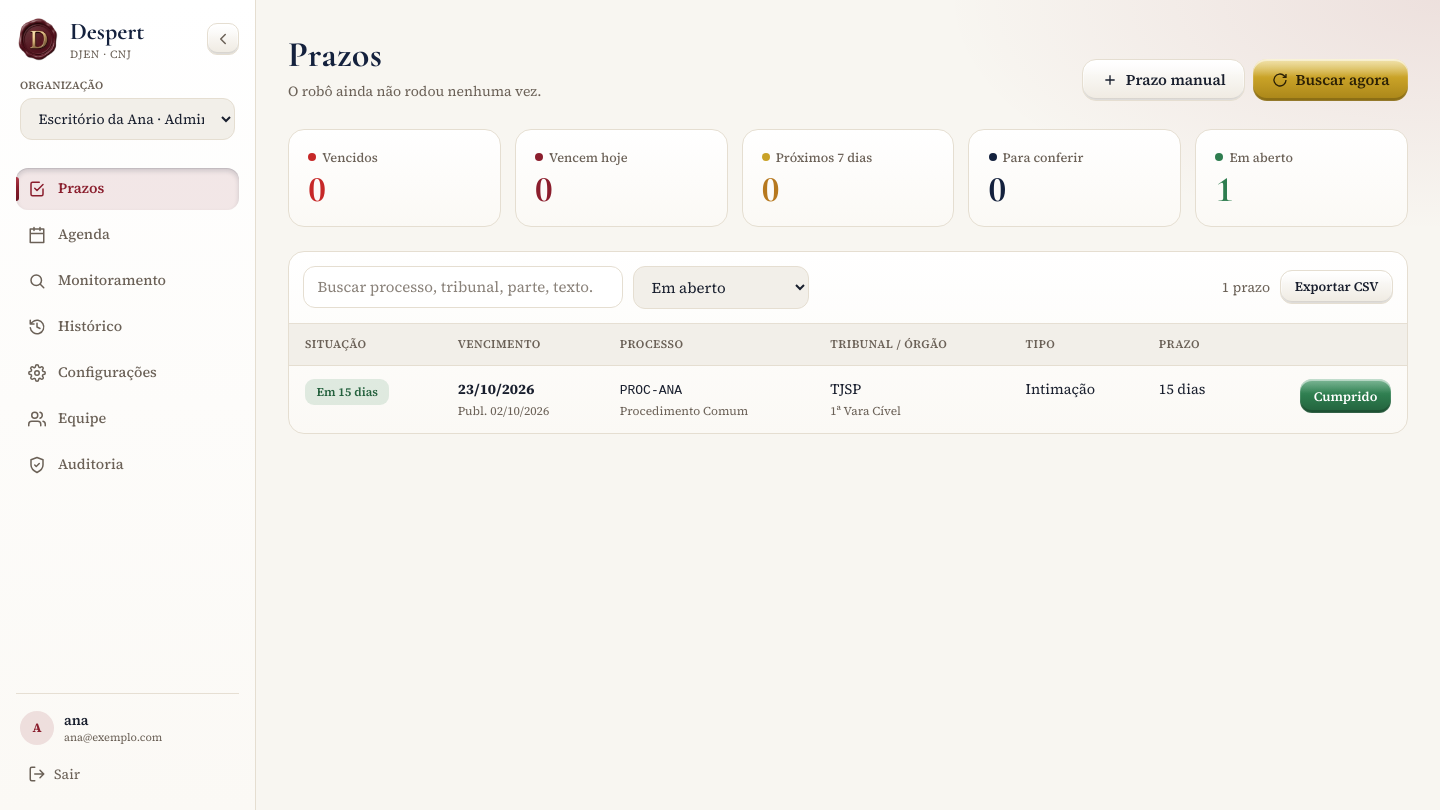
equipe e organizações › quem está em duas organizações troca entre elas e vê só os dados da ativa
Check: the text "PROC-ANA" is shown, box [620, 383, 682, 398]
Check: the text "PROC-ACME" is not shown
Select "Jurídico ACME · Leitura" in the dropdown labelled "Organização": (128, 119) [20, 98, 235, 140]
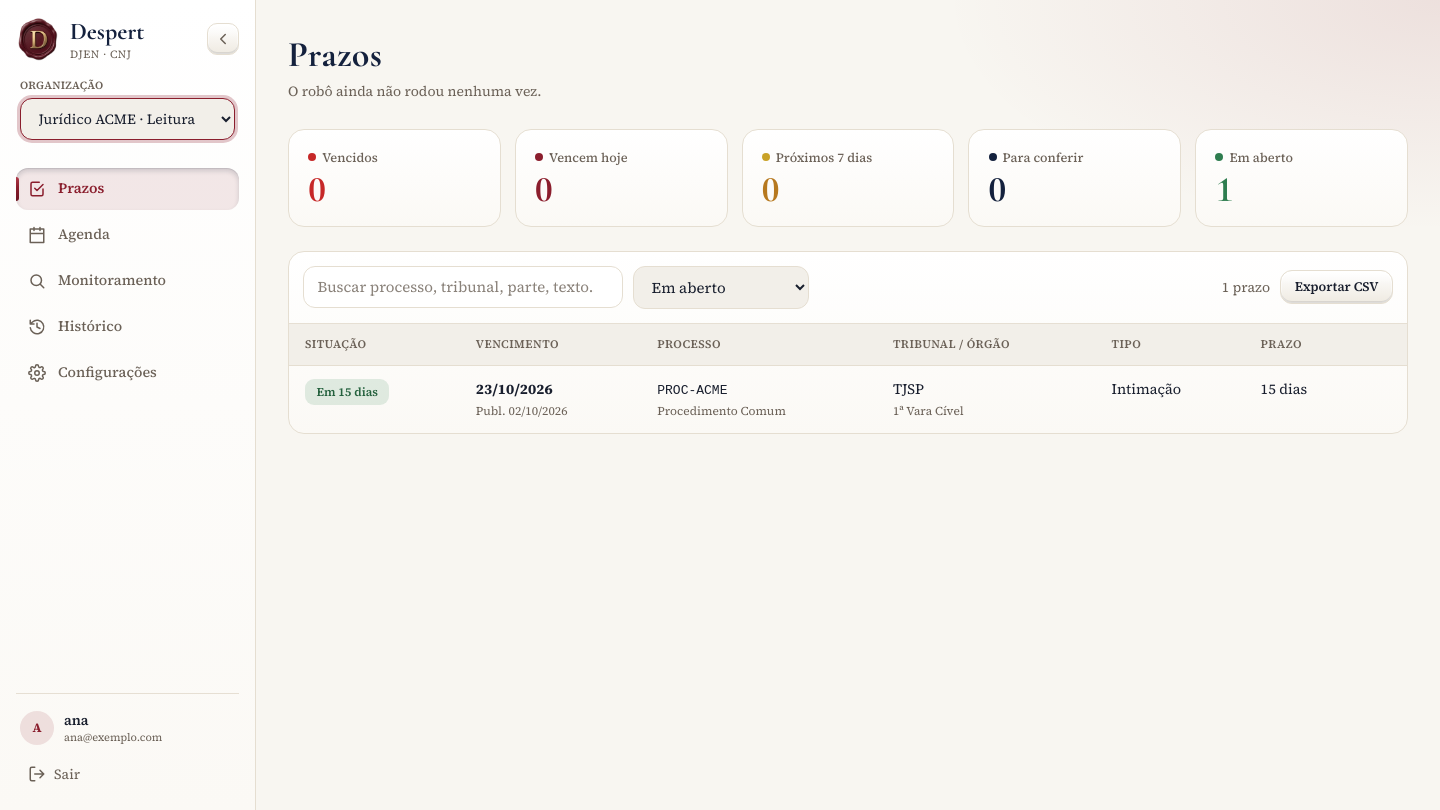
Check: the text "PROC-ACME" is shown, box [657, 383, 728, 398]
Check: the text "PROC-ANA" is gone
Check: the button "Prazo manual" is gone
